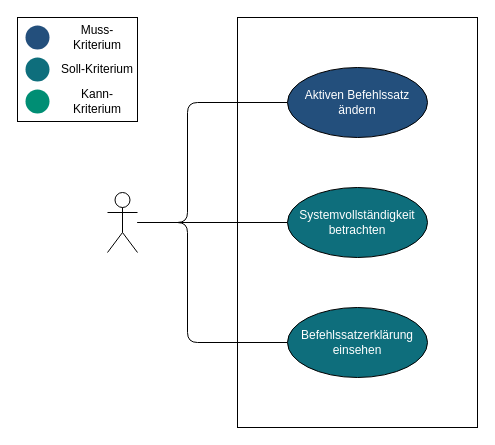
Image size: 495x445. Some labels were removed from this diagram. Each missing label, with the box of its shape:
Player: (106, 192, 138, 252)
Steuerwerk-Block: (236, 16, 478, 428)
